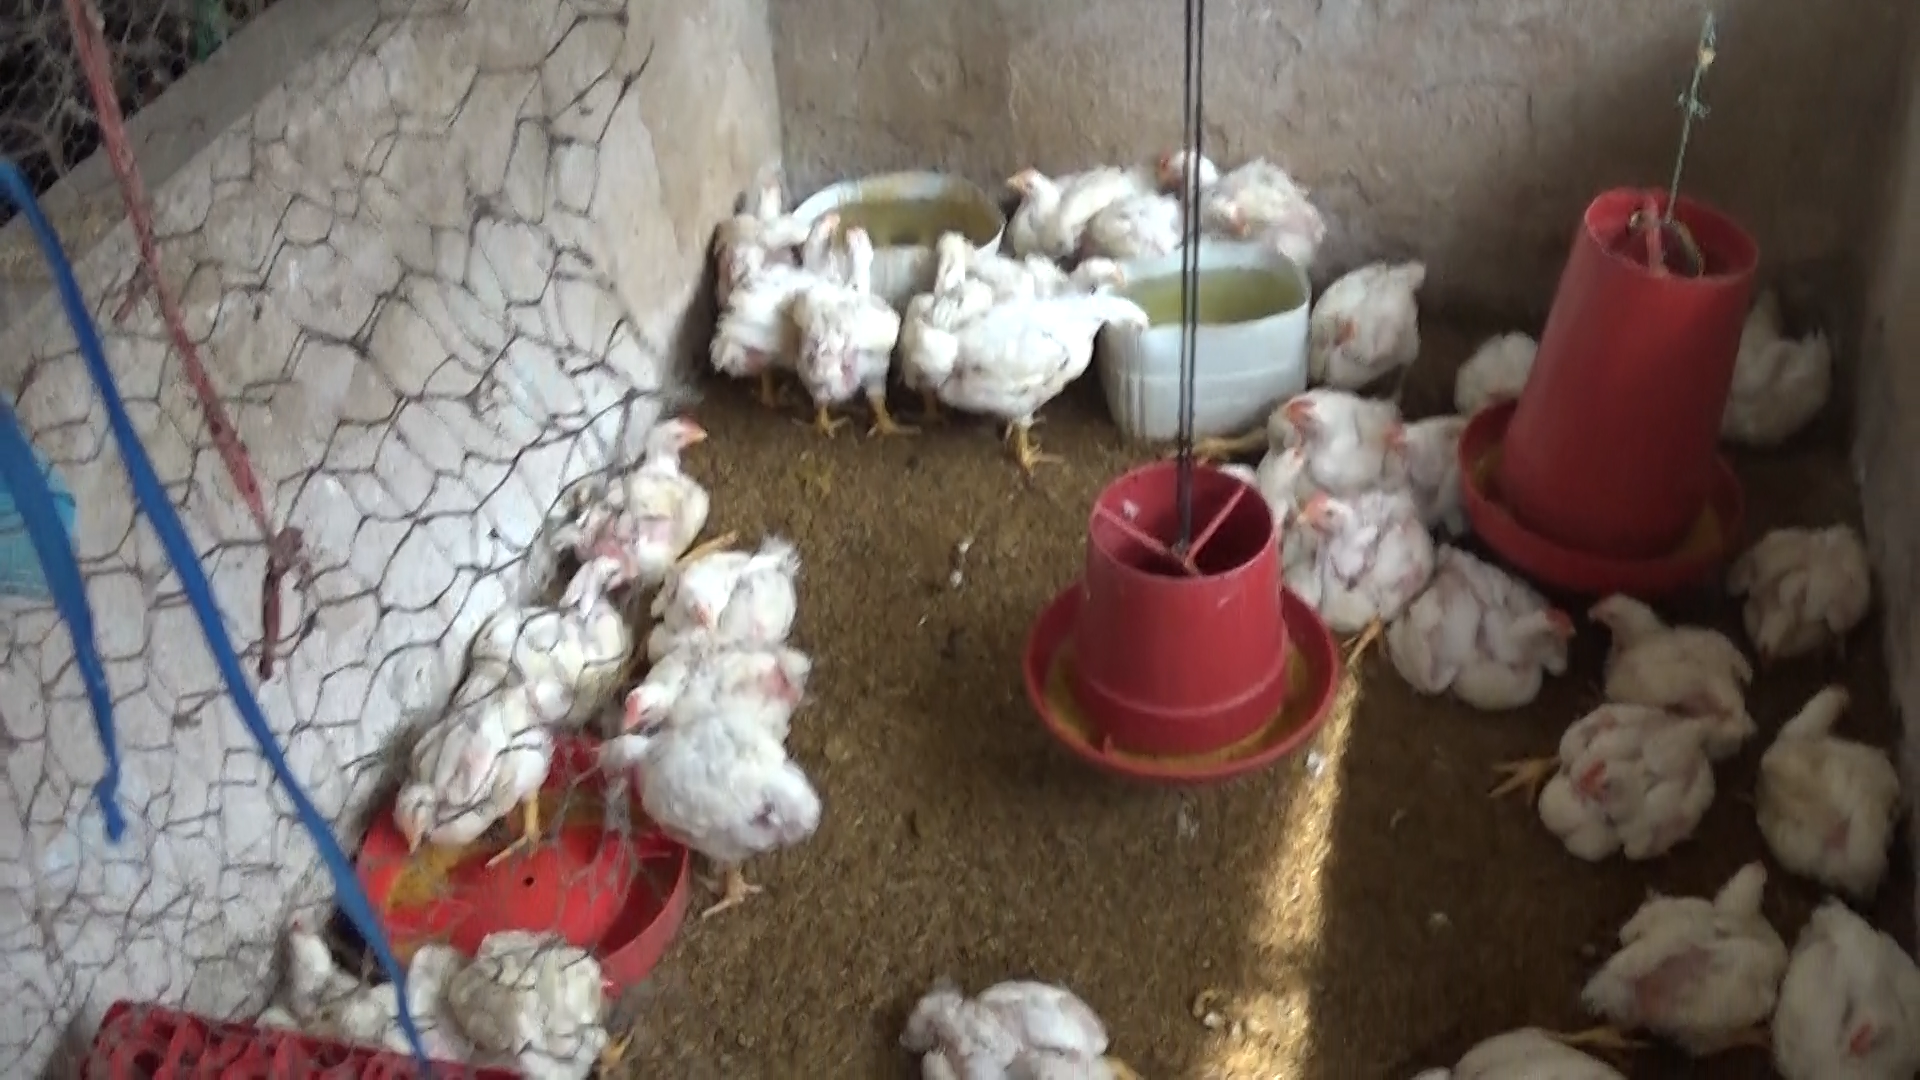Pollos: (553, 737, 829, 928), (906, 282, 1166, 469), (1493, 692, 1735, 862), (1581, 848, 1787, 1034), (446, 549, 646, 721), (1379, 541, 1578, 709), (1764, 667, 1920, 882), (390, 687, 560, 873), (711, 207, 852, 429), (616, 618, 833, 760), (893, 963, 1142, 1080), (1776, 880, 1920, 1080), (549, 411, 723, 574), (1575, 576, 1755, 731), (1275, 477, 1437, 637), (795, 203, 897, 443), (1298, 248, 1445, 409), (1146, 142, 1342, 262), (1714, 272, 1834, 458), (644, 512, 796, 649), (1749, 504, 1876, 662), (1266, 377, 1414, 513), (1354, 413, 1486, 549), (1000, 157, 1168, 258), (713, 142, 782, 284)
